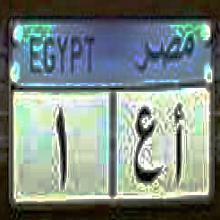1: (56, 103, 69, 192)
ain: (134, 103, 158, 188)
alif: (174, 100, 184, 182)
